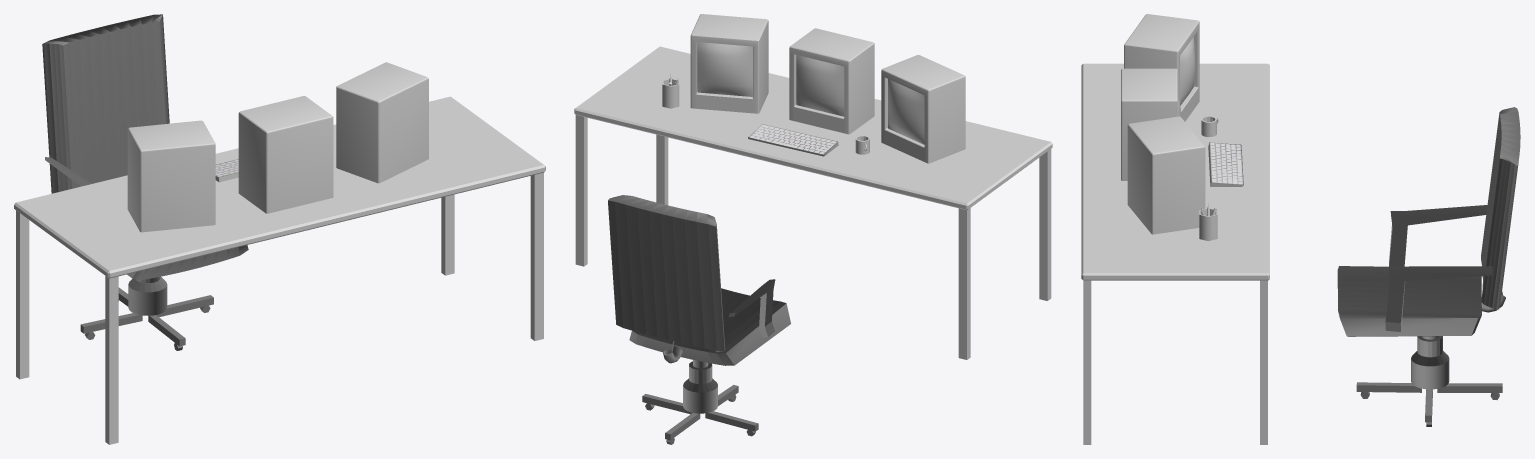
File: working_station.FBX
3 renders of one model, left to right at view 1: azimuth 30°, elevation 25°; view 2: azimuth 150°, elevation 25°; view 3: azimuth 270°, elevation 25°, orthographic. The views are drawn at different scales.
Visible parts, largest first — view 1: Box001, Box005, tv003, tv2, Object; view 2: Box001, Box005, tv003, Object, tv2, Box029, Cylinder004; view 3: Box001, Box005, tv2, Object, tv003, Box029, Cylinder004.
Boxes of the visible parts, x1=… form: Box001: x1=14, y1=96, x2=545, y2=444; Box005: x1=42, y1=14, x2=248, y2=350; tv003: x1=238, y1=96, x2=333, y2=213; tv2: x1=336, y1=62, x2=428, y2=183; Object: x1=127, y1=120, x2=215, y2=232; Box001: x1=574, y1=46, x2=1052, y2=359; Box005: x1=608, y1=195, x2=790, y2=444; tv003: x1=789, y1=28, x2=874, y2=134; Object: x1=881, y1=55, x2=965, y2=163; tv2: x1=690, y1=14, x2=768, y2=113; Box029: x1=748, y1=124, x2=838, y2=156; Cylinder004: x1=662, y1=73, x2=679, y2=108; Box001: x1=1081, y1=63, x2=1269, y2=444; Box005: x1=1337, y1=107, x2=1520, y2=426; tv2: x1=1127, y1=116, x2=1205, y2=234; Object: x1=1124, y1=14, x2=1199, y2=121; tv003: x1=1121, y1=68, x2=1181, y2=180; Box029: x1=1208, y1=142, x2=1243, y2=186; Cylinder004: x1=1199, y1=202, x2=1217, y2=241.
Size of the model in its own units: 97.9 by 67.59 by 86.
2 materials, 1 textured.
